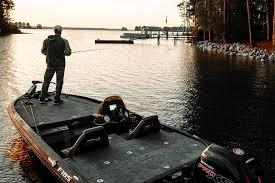fishing boat: (5, 23, 265, 183)
